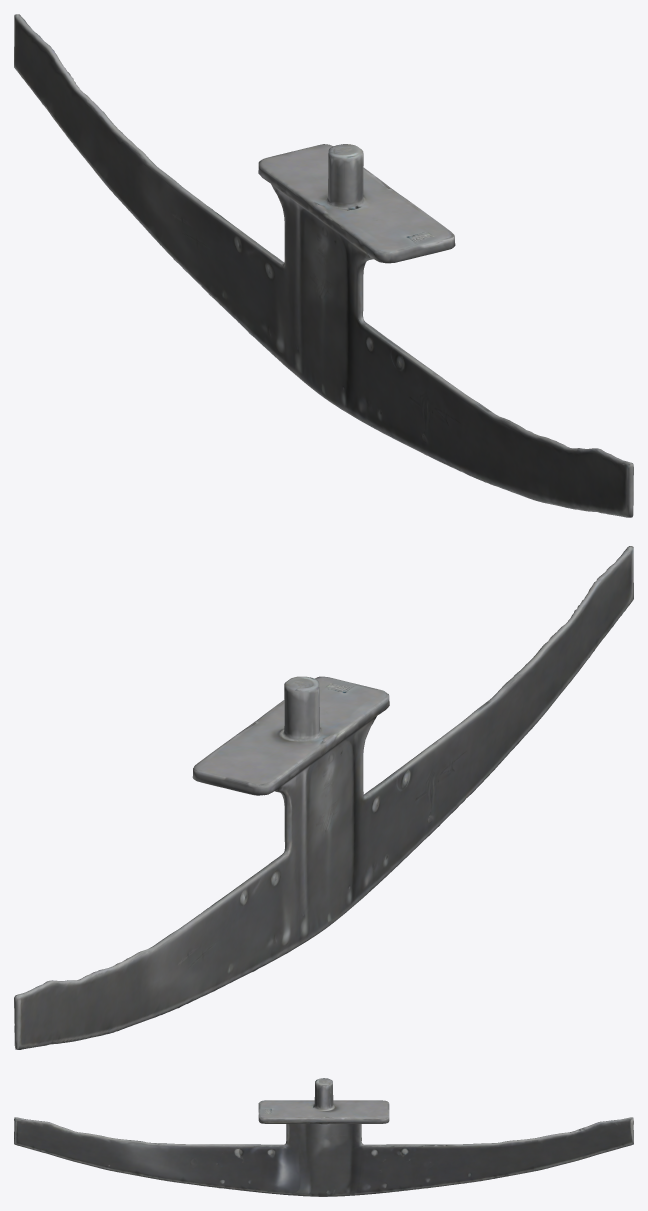
File: AxeHead.fbx
The picture shows the model from 3 angles, top to bottom: view 1: azimuth 30°, elevation 25°; view 2: azimuth 150°, elevation 25°; view 3: azimuth 270°, elevation 25°; orthographic projection. The views are drawn at different scales.
Parts seen in each view (by area): view 1: Mesh1_Mesh1.012; view 2: Mesh1_Mesh1.012; view 3: Mesh1_Mesh1.012.
Part boxes in pixels (x1,y1,x2,y2): Mesh1_Mesh1.012: (14, 14, 633, 517); Mesh1_Mesh1.012: (14, 546, 633, 1049); Mesh1_Mesh1.012: (14, 1078, 633, 1196).
Bounding box in the file's own units: 14.57 × 43.12 × 201.
1 material, 1 textured.
